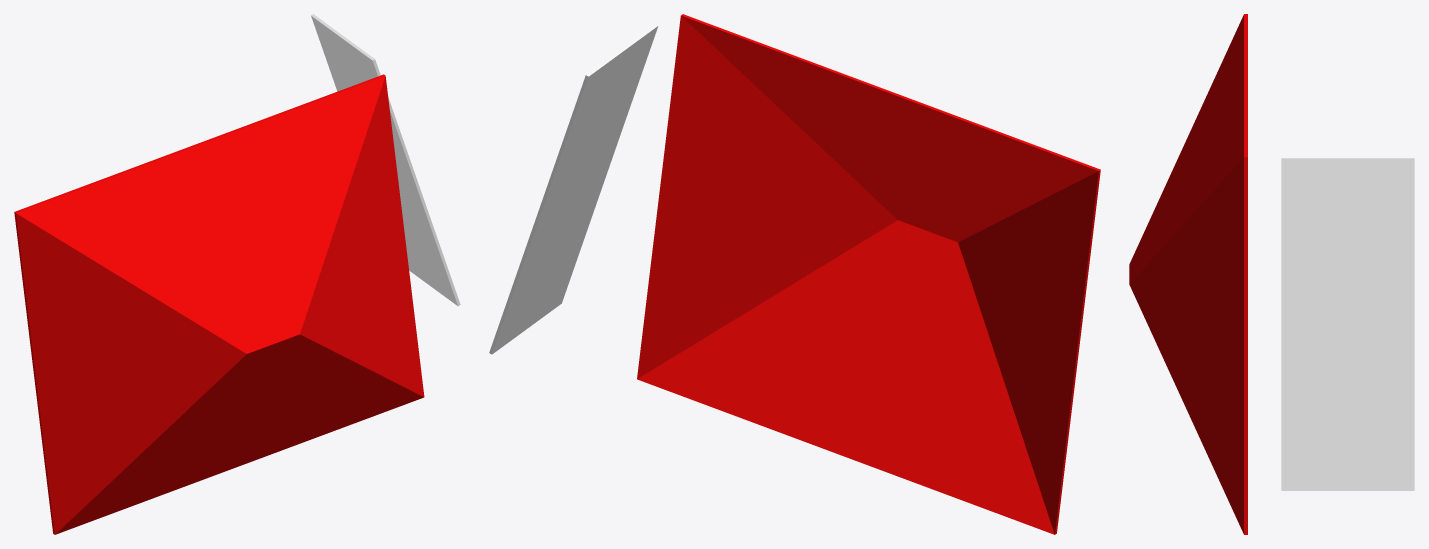
The picture shows the model from 3 angles, left to right: view 1: azimuth 30°, elevation 25°; view 2: azimuth 150°, elevation 25°; view 3: azimuth 270°, elevation 25°; orthographic projection. The views are drawn at different scales.
Parts seen in each view (by area): view 1: 0_3_1_2_3; view 2: 0_3_1_2_3; view 3: 0_3_1_2_3.
Part boxes in pixels (x1=…): 0_3_1_2_3: x1=14, y1=14, x2=460, y2=534; 0_3_1_2_3: x1=489, y1=14, x2=1100, y2=534; 0_3_1_2_3: x1=1129, y1=14, x2=1414, y2=534.
Size of the model in its own units: 8.63 by 6.8 by 4.28.
